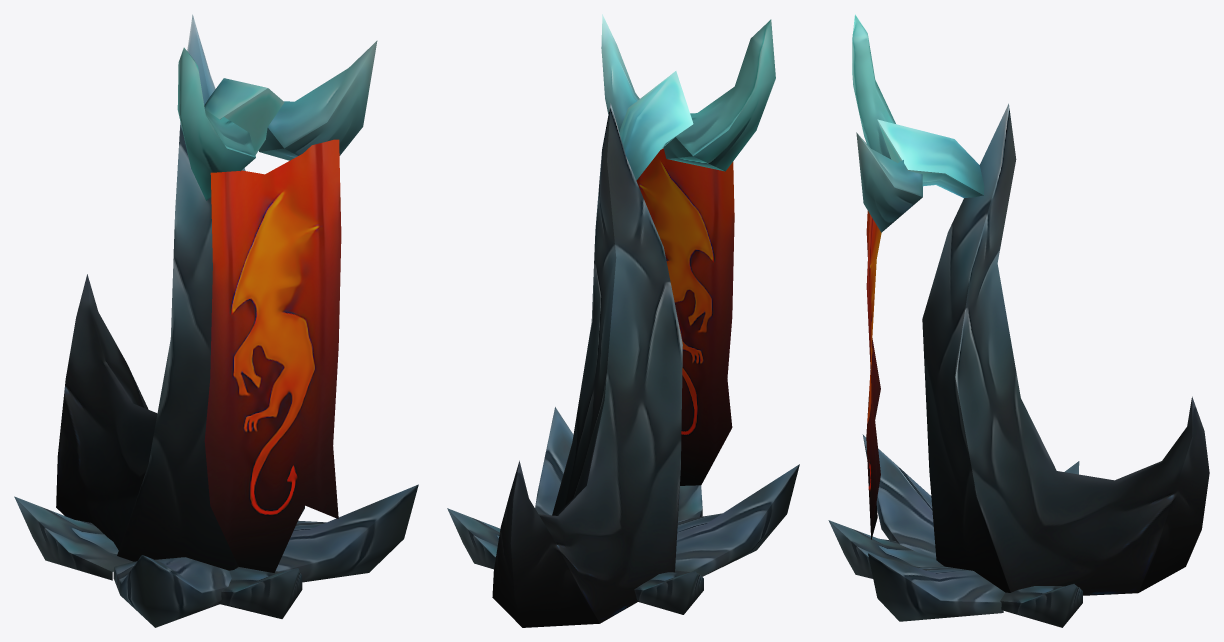
File: DragonVillage_Prop_04.FBX
3 views of the same model, side by side, from view 1: azimuth 30°, elevation 25°; view 2: azimuth 150°, elevation 25°; view 3: azimuth 270°, elevation 25° (orthographic). The views are drawn at different scales.
Visible parts, largest first — view 1: DragonVillage_Prop_04; view 2: DragonVillage_Prop_04; view 3: DragonVillage_Prop_04.
Boxes of the visible parts, <box> form: DragonVillage_Prop_04: <box>14,14,418,627</box>; DragonVillage_Prop_04: <box>447,14,799,627</box>; DragonVillage_Prop_04: <box>828,14,1209,627</box>.
Bounding box in the file's own units: 335 × 688 × 440.
